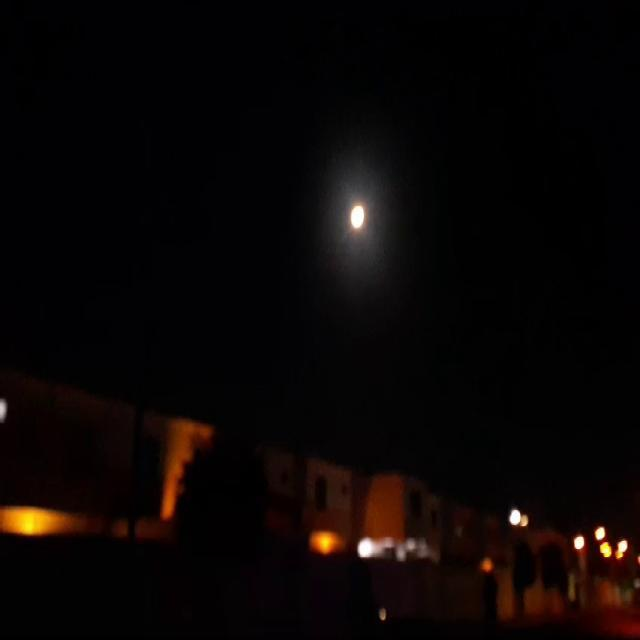moon: (347, 202, 370, 236)
